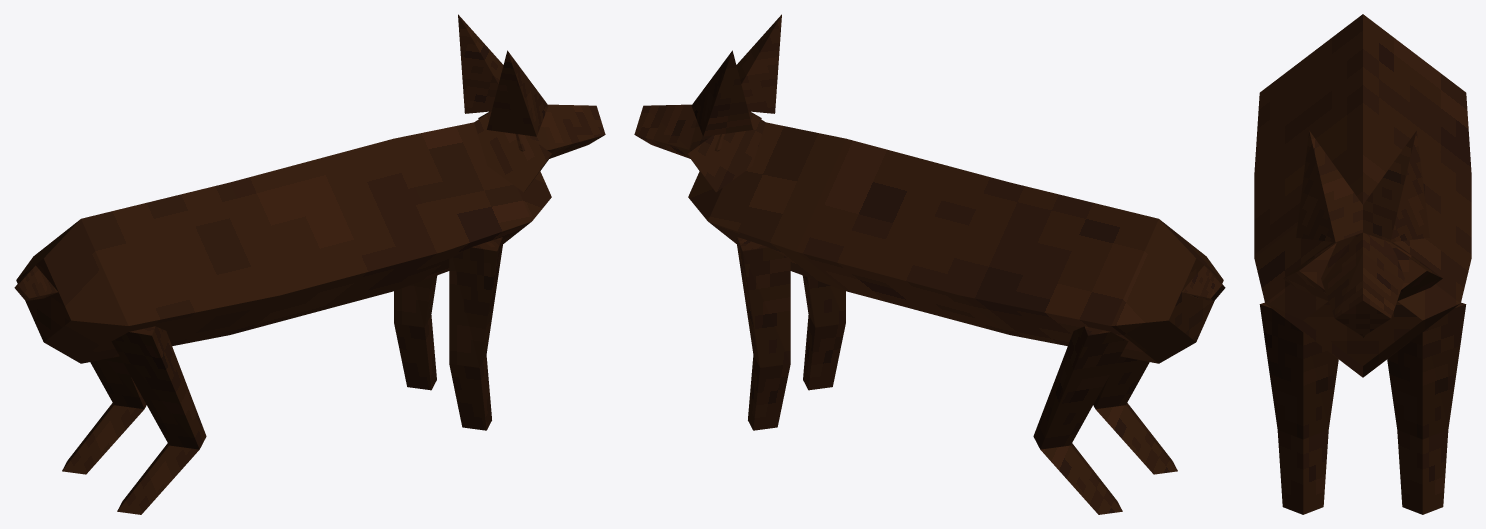
Rendered from liebre.glb.
3 views of the same model, side by side, from view 1: azimuth 30°, elevation 25°; view 2: azimuth 150°, elevation 25°; view 3: azimuth 270°, elevation 25° (orthographic). The views are drawn at different scales.
Visible parts, largest first — view 1: cuerpo, pata_trasera_der, pata_delantera_der, orejas, pata_delantera_izq, pata_trasera_izq, cuello, cabeza, cola; view 2: cuerpo, pata_trasera_izq, pata_delantera_izq, orejas, pata_delantera_der, pata_trasera_der, cuello, cabeza, cola; view 3: cuerpo, pata_delantera_izq, pata_delantera_der, orejas, cabeza, cuello.
Part boxes in pixels (box(x1,y1,x2,y2)): cuerpo: box(16, 122, 551, 363); pata_trasera_der: box(111, 326, 206, 514); pata_delantera_der: box(449, 237, 503, 430); orejas: box(458, 14, 548, 136); pata_delantera_izq: box(394, 275, 437, 390); pata_trasera_izq: box(62, 356, 146, 474); cuello: box(474, 111, 552, 192); cabeza: box(478, 104, 605, 158); cola: box(14, 265, 57, 300); cuerpo: box(688, 122, 1223, 363); pata_trasera_izq: box(1033, 326, 1128, 514); pata_delantera_izq: box(736, 237, 790, 430); orejas: box(691, 14, 781, 136); pata_delantera_der: box(802, 275, 845, 390); pata_trasera_der: box(1093, 356, 1177, 474); cuello: box(687, 111, 765, 192); cabeza: box(634, 104, 761, 158); cola: box(1182, 265, 1225, 300); cuerpo: box(1254, 14, 1471, 377); pata_delantera_izq: box(1387, 302, 1466, 514); pata_delantera_der: box(1259, 302, 1338, 514); orejas: box(1296, 131, 1429, 242); cabeza: box(1314, 232, 1411, 336); cuello: box(1283, 242, 1442, 337).
Bounding box in the file's own units: 0.5 × 0.3 × 0.15.
Materials: 1 (1 with a texture image).
